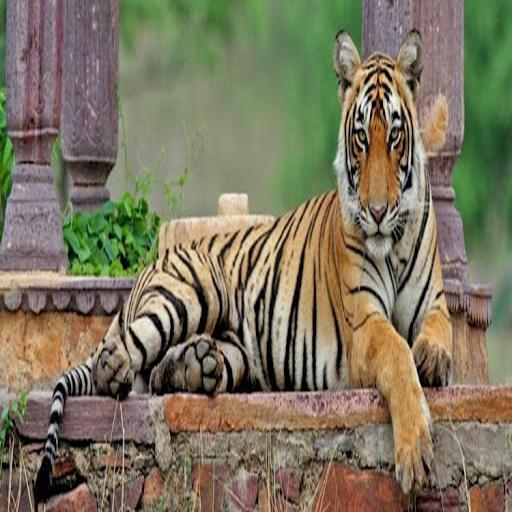Tiger: (32, 23, 458, 502)
